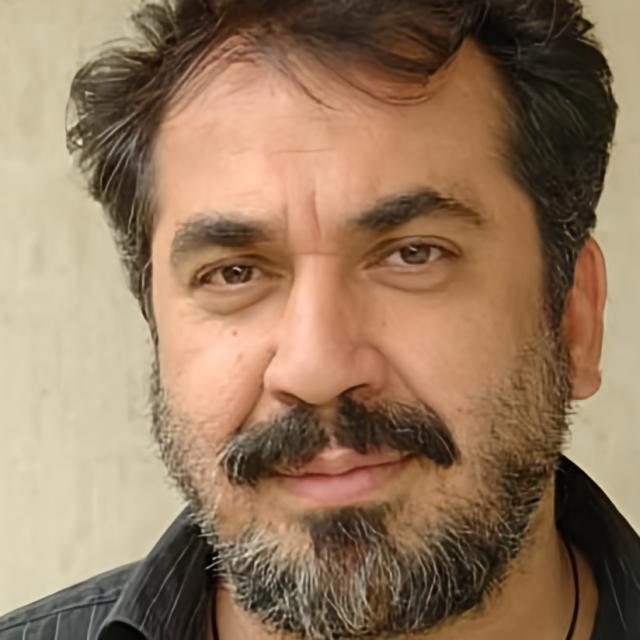content: (146, 12, 560, 640)
